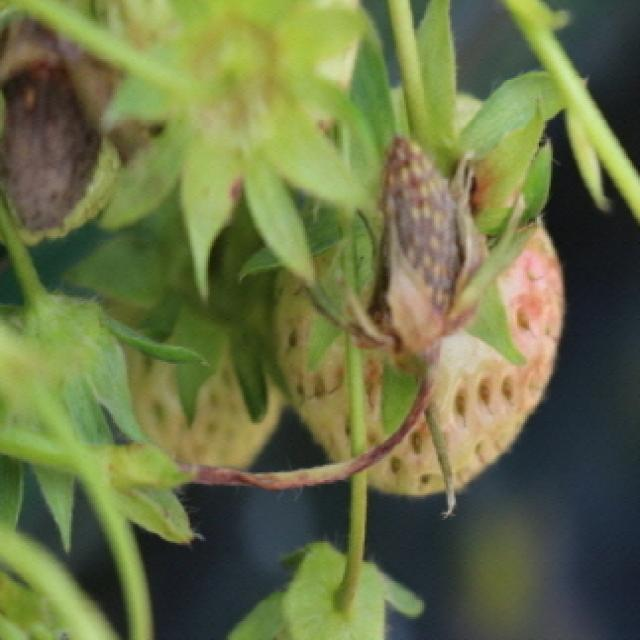Gray Mold: (348, 130, 491, 375), (0, 14, 126, 234)
